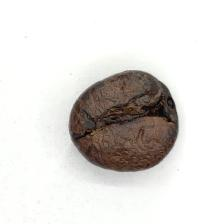NG: (72, 76, 179, 145)
